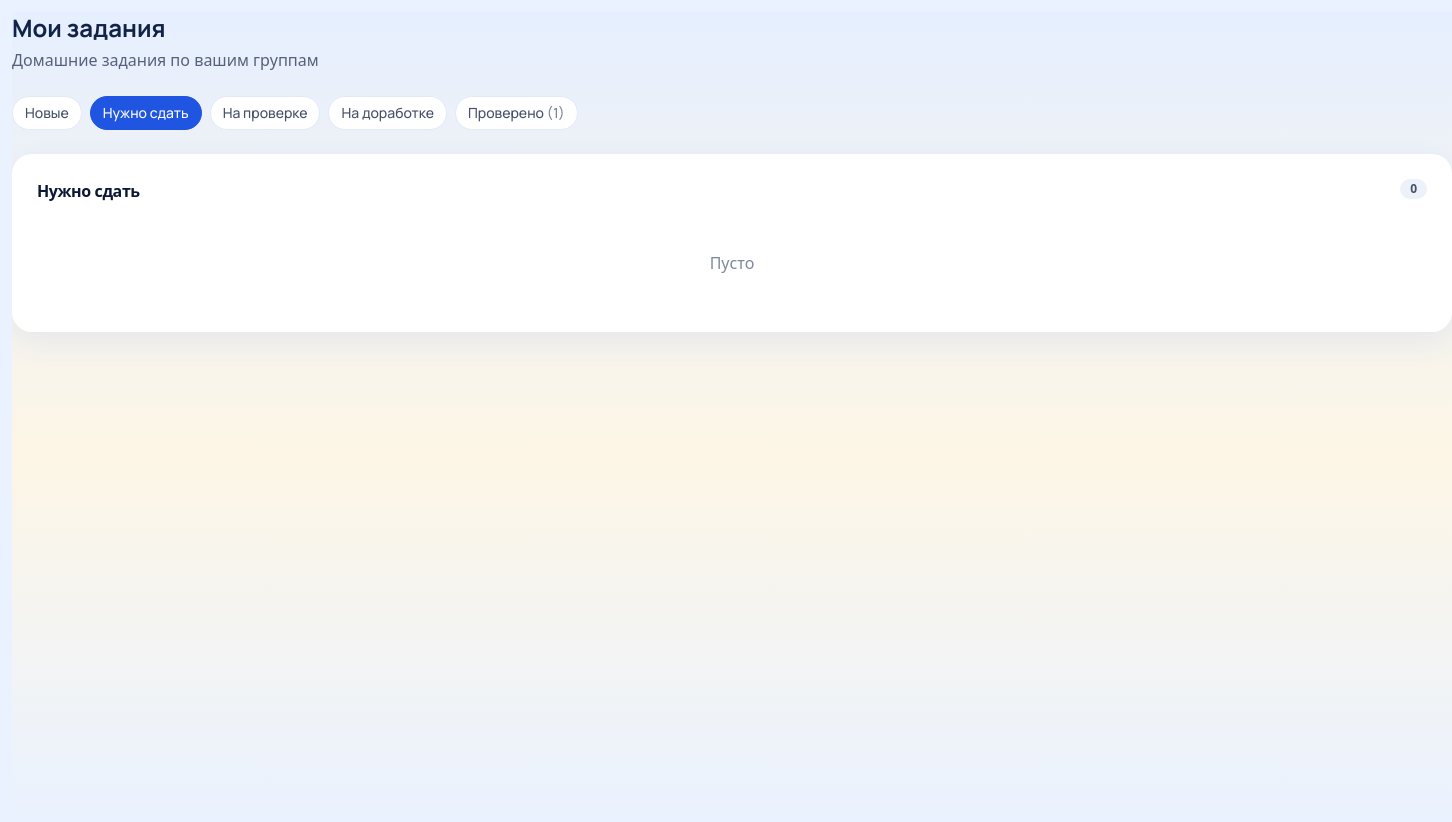
Test: MyHomeworksV2Page — категории (server-derived, проверяем что UI их корректно отображает по вкладкам) › checked (accepted): вкладка «Проверено», без кнопки сдачи
Click the button "Проверено (1)" at (516, 113), box [455, 96, 578, 130]
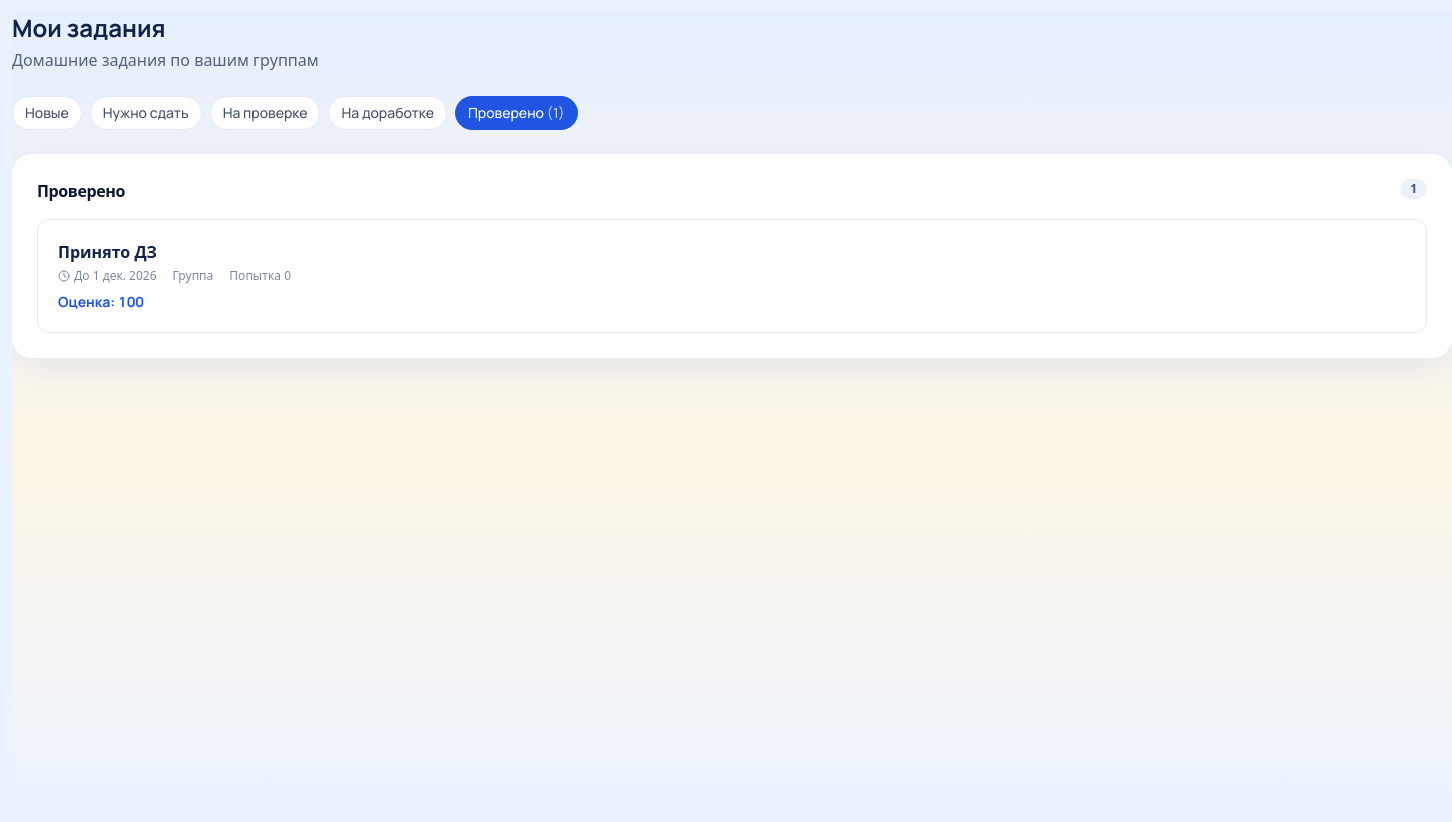
Check: the heading "Принято ДЗ" is shown, box [58, 240, 157, 264]
